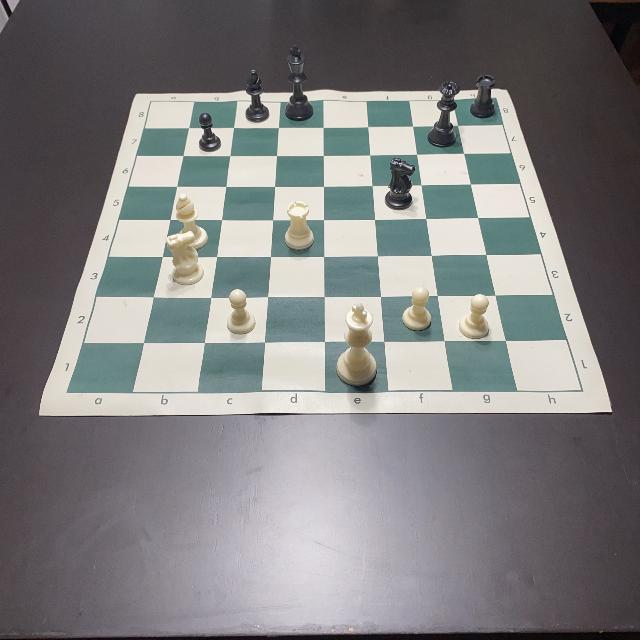black-bishop: (245, 70, 269, 122)
black-king: (286, 45, 314, 121)
black-knight: (384, 159, 414, 211)
black-pawn: (197, 113, 221, 151)
black-queen: (428, 80, 460, 146)
black-rook: (470, 74, 496, 118)
board: (37, 89, 613, 417)
white-bishop: (176, 194, 208, 248)
white-king: (336, 302, 376, 386)
white-knight: (167, 232, 203, 286)
white-pawn: (402, 286, 433, 330), (227, 288, 256, 334), (460, 293, 490, 337)
white-rook: (284, 202, 314, 250)
